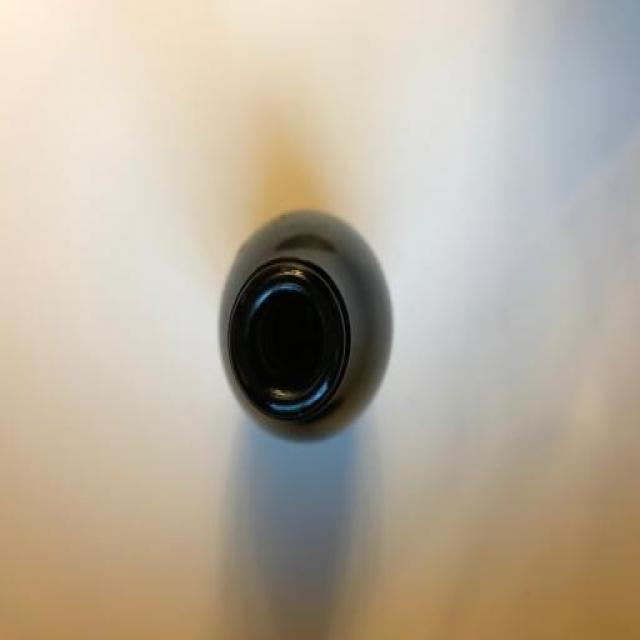glass: (219, 208, 395, 443)
